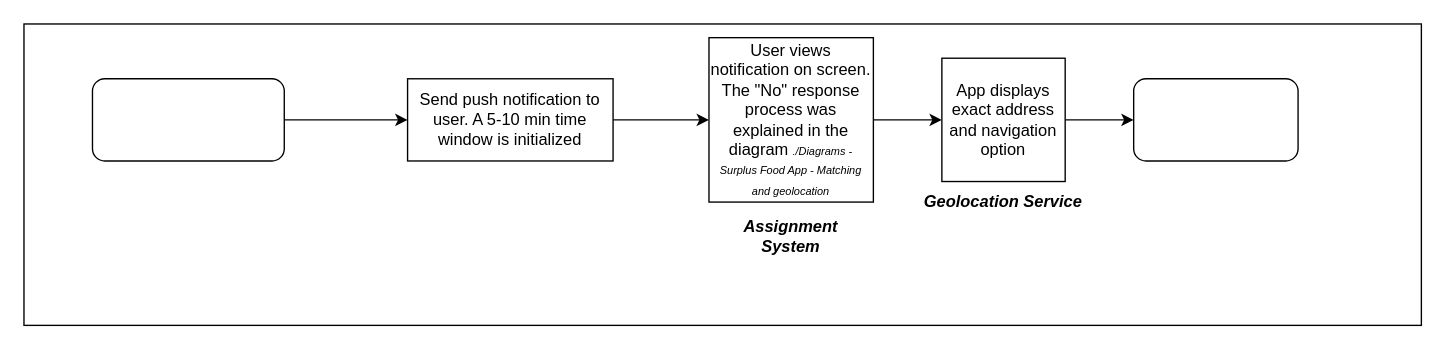
The diagram is 1445 pixels wide and 349 high, and some of its shapes have lost their labels. Here are the shapes that lost their labels. From the top down, the centre of each, then its label:
At (x=187, y=119): "Start: Matching Algorithm selects the candidate".
At (x=1215, y=119): "End".
